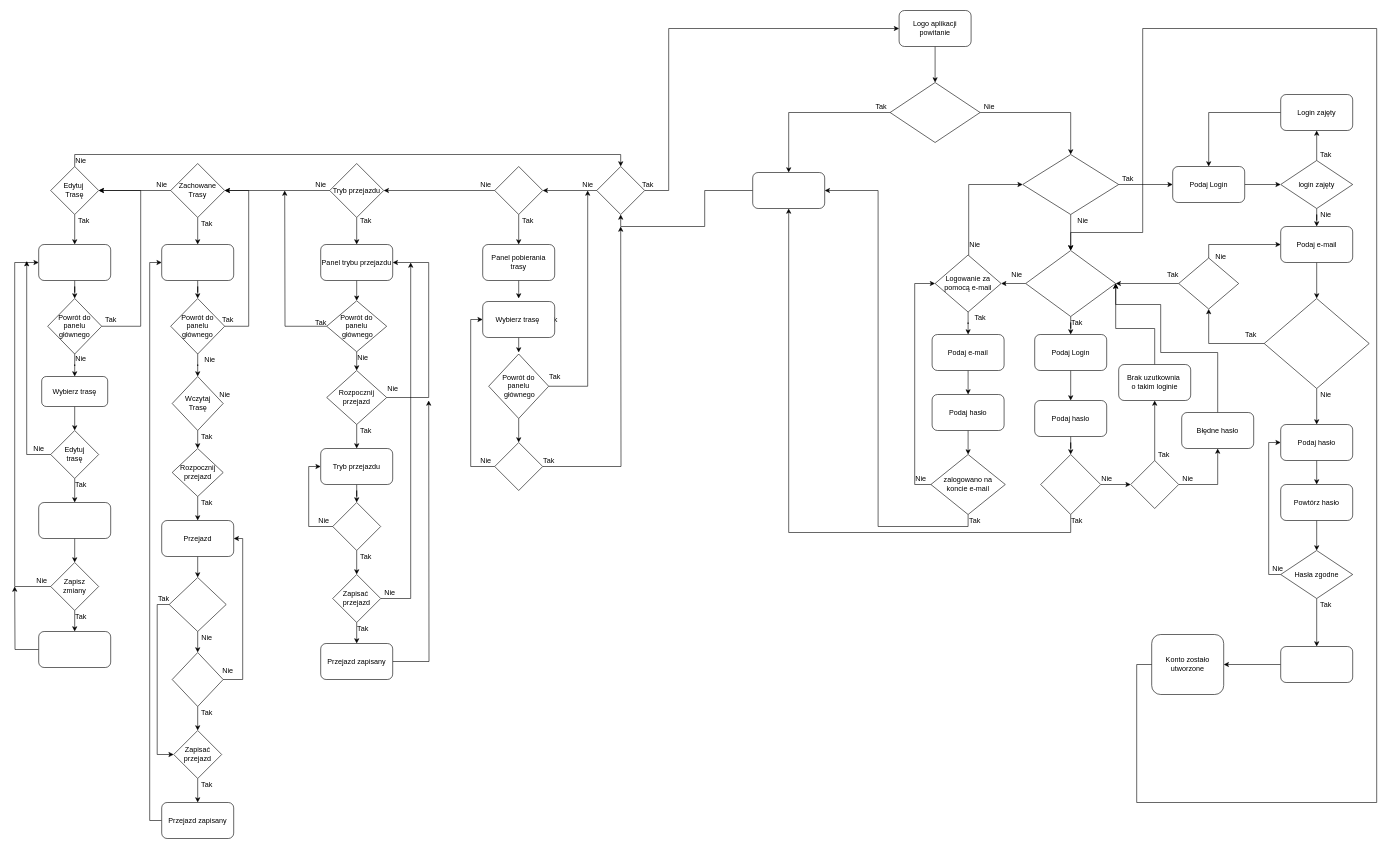
The diagram is 1392 pixels wide and 849 high, and some of its shapes have lost their labels. The centre of each missing label's shape, as x and y in pixels:
czy użytkownik jest zalogowany: point 935,112
Edytowanie trasy: point 74,520
Koniec trasy: point 197,604
Login i hasło prawidłowe: point 1070,484
Logowanie za pomocą loginu i hasła: point 1070,283
Panel edycji trasy: point 74,262
Panel główny: point 788,190
Panel wyboru trasy: point 197,262
Pobierz: point 518,466
Pobierz Trasę: point 518,190
Przejsć do logowania: point 1208,283
Utwórz konto: point 1070,184
Użytkownik z takim e-mailem juz istnieje: point 1316,343
Wprowadź imię mazwisko: point 1316,664
Wyloguj: point 620,190
Zakończ przejazd: point 356,526
Zakończyć przejazd: point 197,679
Zmiany zapisane: point 74,649
Zły login: point 1154,484
